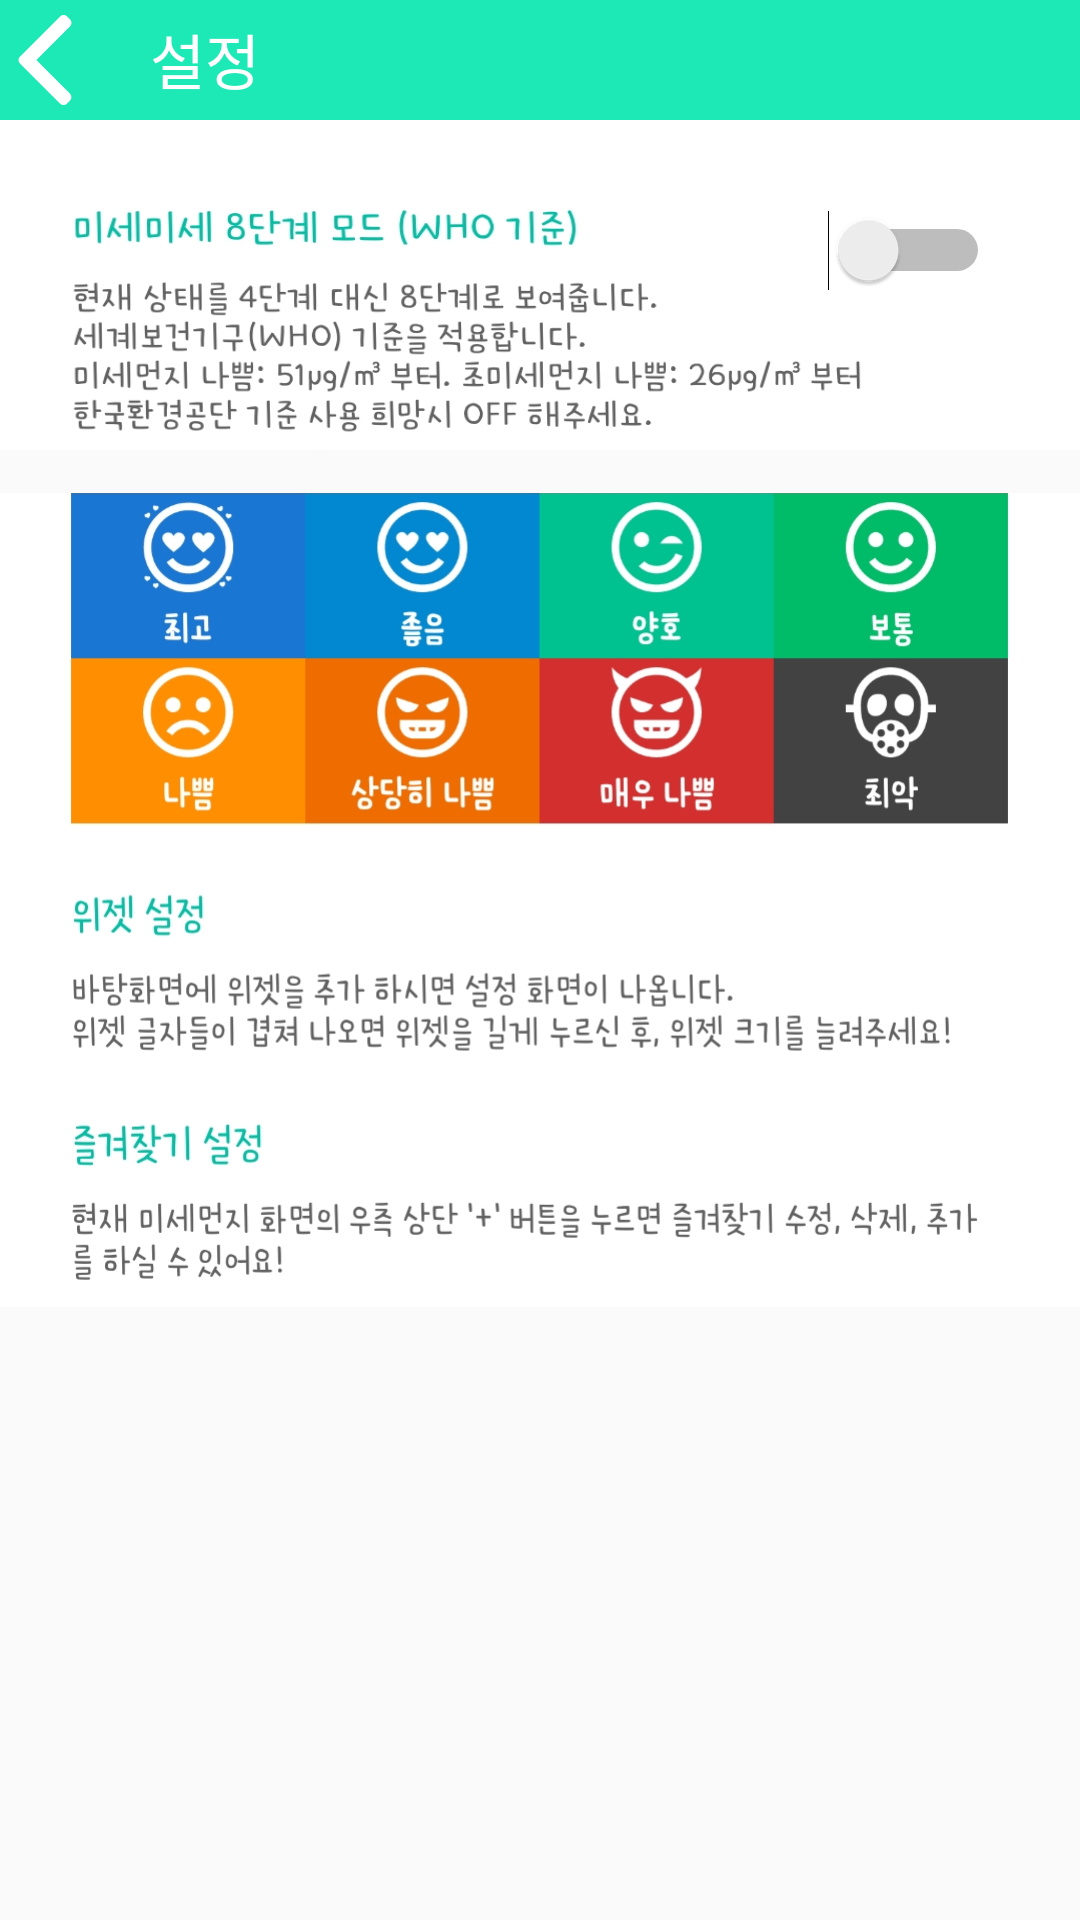

Named icons in this screenshot (1080*1920) and their bounding boxes, (x1, y1, x2, y2):
back: (18, 15, 72, 105)
